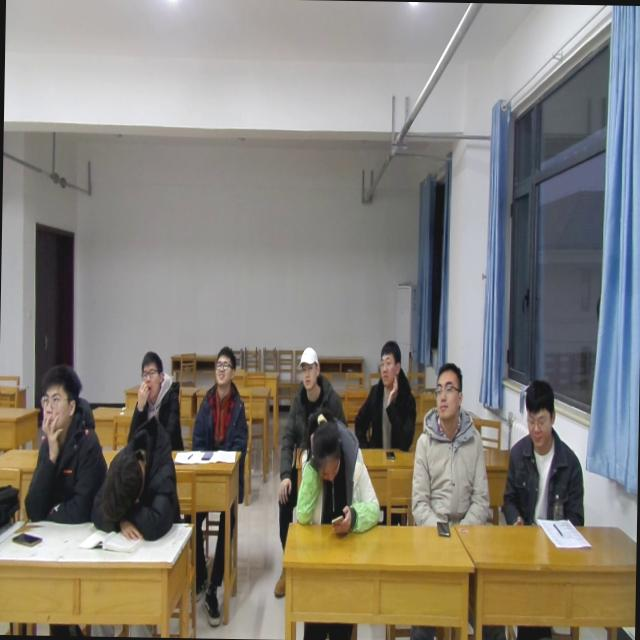bow: (88, 410, 184, 543), (292, 405, 383, 533)
down: (304, 411, 344, 490), (518, 376, 556, 456)
lookup: (36, 358, 82, 439), (430, 356, 465, 423), (371, 334, 404, 396), (132, 346, 164, 408), (292, 342, 322, 398), (210, 338, 236, 388)
sit: (408, 360, 493, 532), (21, 361, 108, 528), (499, 376, 589, 530), (350, 338, 420, 453), (188, 344, 250, 454), (280, 342, 344, 448), (125, 347, 184, 453)
